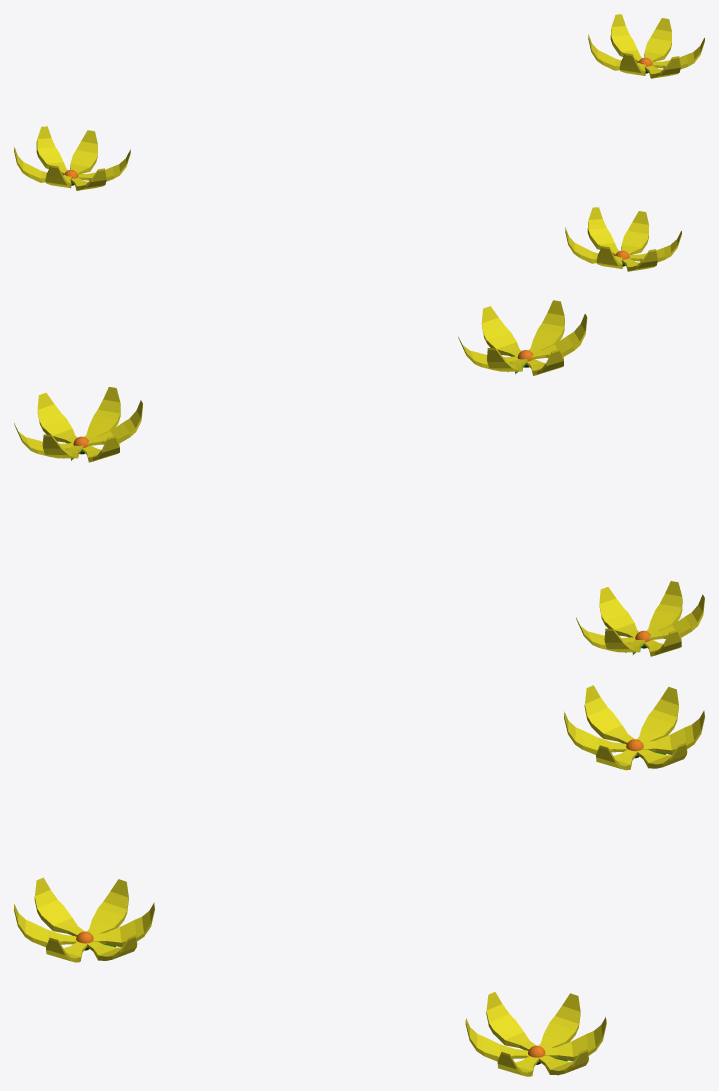
File: Flowers Medium.fbx
The picture shows the model from 3 angles, top to bottom: view 1: azimuth 30°, elevation 25°; view 2: azimuth 150°, elevation 25°; view 3: azimuth 270°, elevation 25°; orthographic projection. The views are drawn at different scales.
Visible parts, largest first — view 1: Cylinder.040; view 2: Cylinder.040; view 3: Cylinder.040.
Part boxes in pixels (bbox=[...]): Cylinder.040: bbox=[14, 14, 704, 271]; Cylinder.040: bbox=[14, 300, 704, 656]; Cylinder.040: bbox=[14, 685, 704, 1076].
Size of the model in its own units: 622 by 49.52 by 484.
